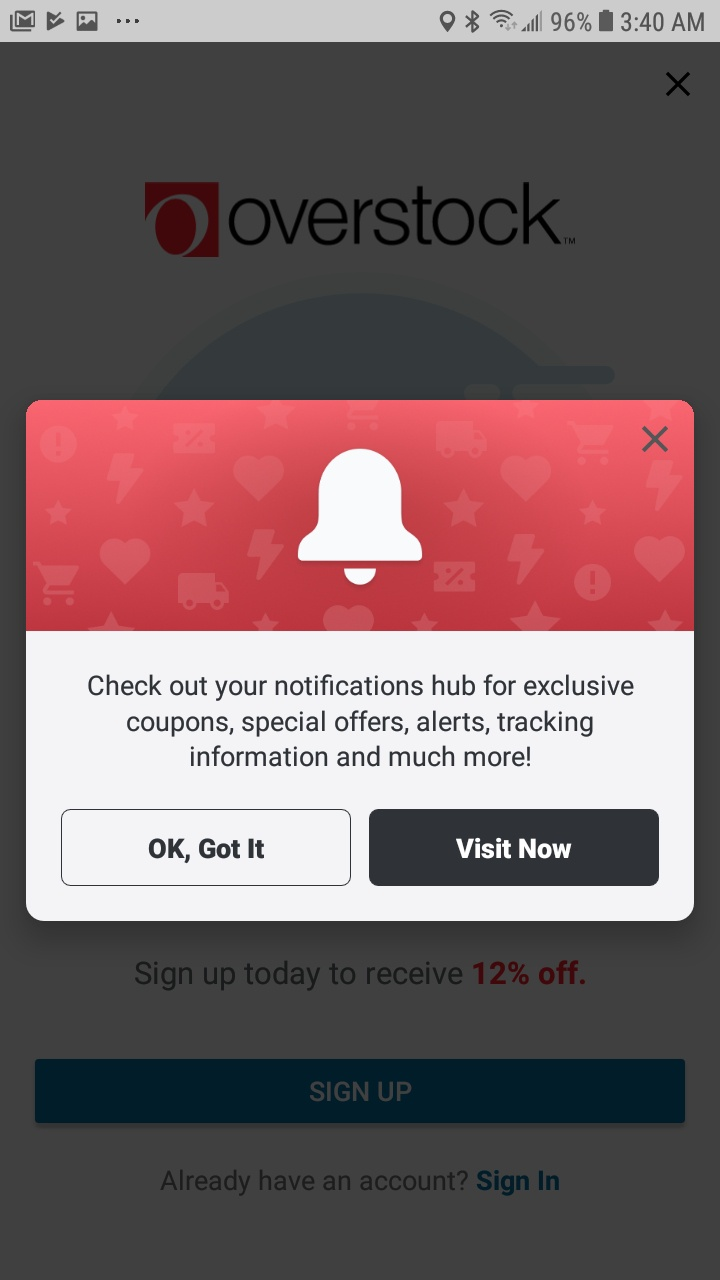Icon: (298, 448, 423, 586), (642, 426, 668, 453)
Modal: (26, 400, 695, 922)
Text: (88, 674, 635, 768)
TextButton: (61, 809, 352, 887), (369, 809, 660, 887)
UpperTaskBar: (1, 1, 720, 43)
